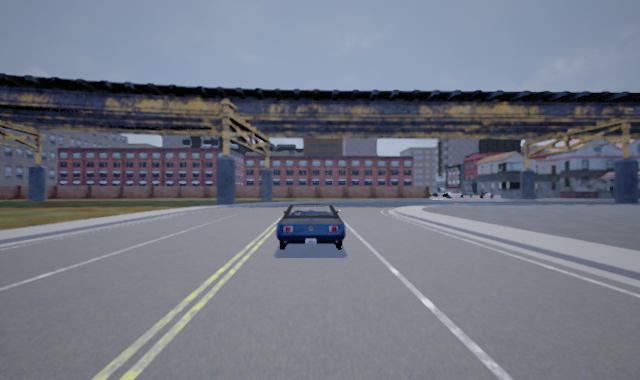vehicle: (275, 202, 345, 250)
